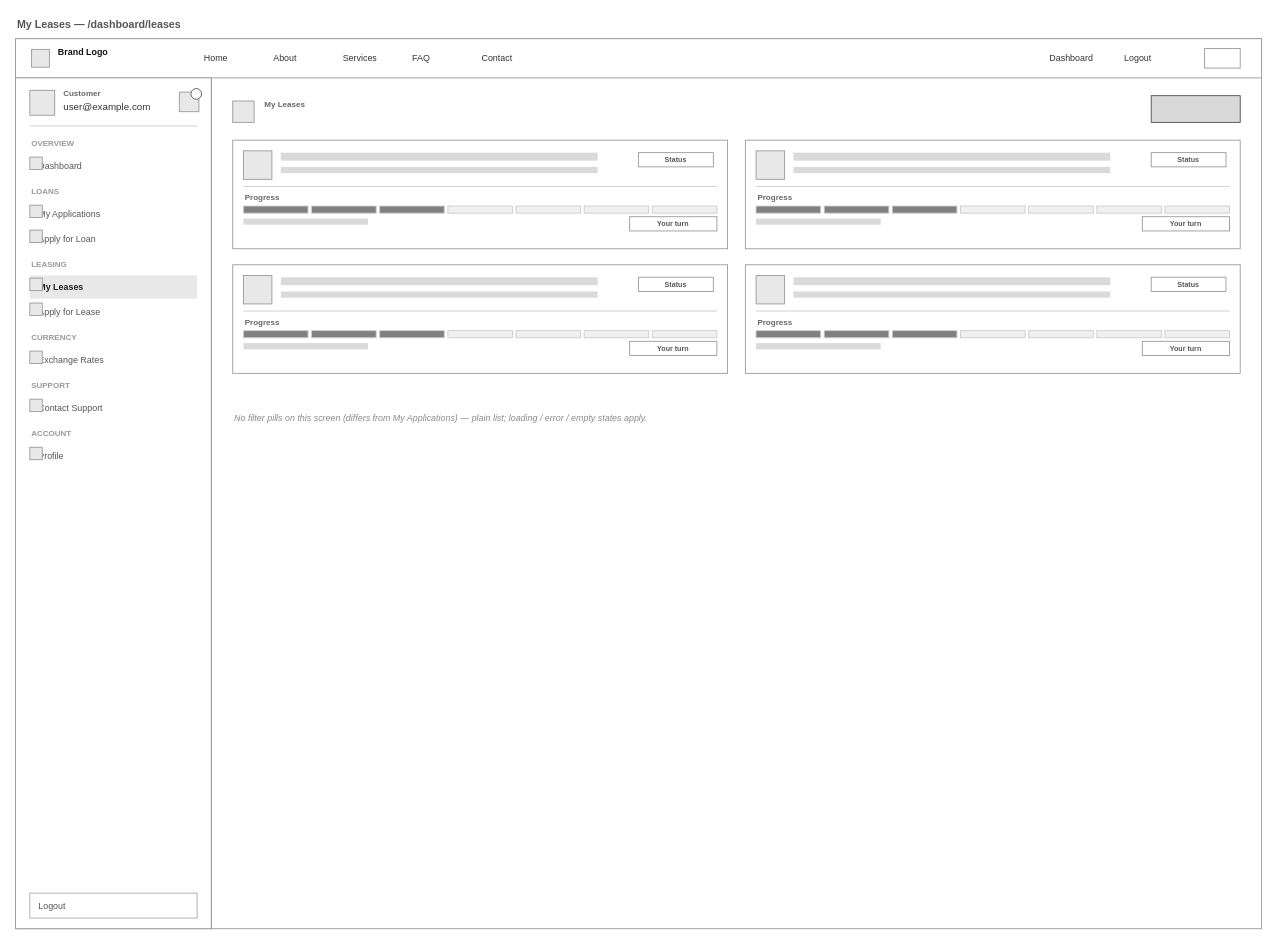
This 1278x945 diagram has some shape labels left out. Here are the shapes that lost their labels. From the top down, the box of each, then its label:
(1204, 48, 1240, 68): EN ▾
(1150, 95, 1240, 122): Apply
